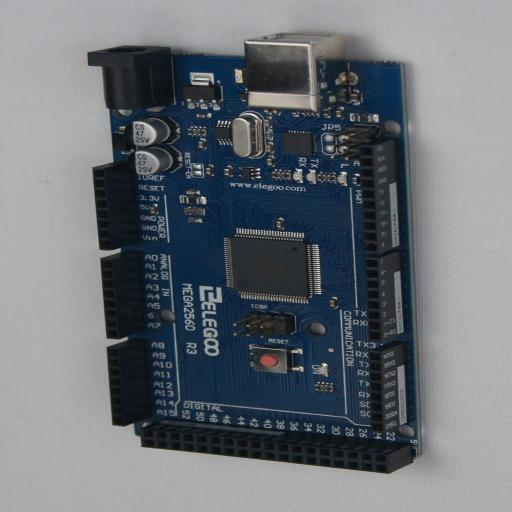Arduino Mega 2560 -Blue-: (88, 33, 422, 474)
